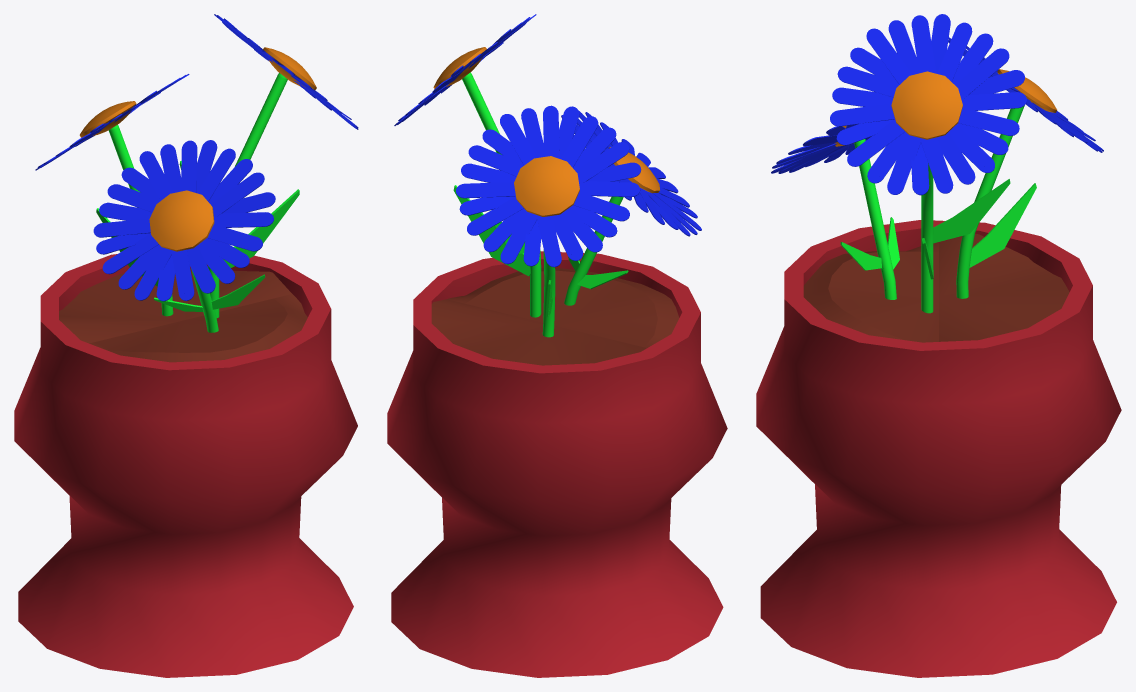
Rendered from jumper_flowerpot01.FBX.
3 views of the same model, side by side, from view 1: azimuth 30°, elevation 25°; view 2: azimuth 150°, elevation 25°; view 3: azimuth 270°, elevation 25° (orthographic). The views are drawn at different scales.
Parts seen in each view (by area): view 1: Tube001, Cone001, OilTank006, OilTank001, OilTank004, OilTank003, Box065, Box063, Box053, Box055, Box057, Box067 (+16 smaller); view 2: Tube001, Cone001, OilTank004, OilTank001, OilTank007, Box042, Box040, Box032, Box034, Box030, Box038, OilTank005 (+17 smaller); view 3: Tube001, Cone001, OilTank003, OilTank007, OilTank005, OilTank001, Box079, Box073, Box019, Box007, Box009, Box017 (+22 smaller).
Part boxes in pixels (left/top/right/bottom): Tube001: left=14, top=254, right=357, bottom=677; Cone001: left=59, top=271, right=307, bottom=362; OilTank006: left=149, top=190, right=214, bottom=251; OilTank001: left=208, top=73, right=287, bottom=317; OilTank004: left=79, top=101, right=136, bottom=137; OilTank003: left=263, top=47, right=316, bottom=89; Box065: left=210, top=175, right=259, bottom=218; Box063: left=212, top=212, right=265, bottom=227; Box053: left=135, top=246, right=173, bottom=294; Box055: left=107, top=233, right=158, bottom=271; Box057: left=102, top=218, right=150, bottom=237; Box067: left=197, top=153, right=233, bottom=201; Tube001: left=387, top=251, right=727, bottom=677; Cone001: left=431, top=267, right=679, bottom=365; OilTank004: left=514, top=156, right=579, bottom=216; OilTank001: left=462, top=72, right=541, bottom=317; OilTank007: left=564, top=196, right=623, bottom=305; Box042: left=575, top=144, right=624, bottom=185; Box040: left=578, top=181, right=631, bottom=196; Box032: left=471, top=196, right=523, bottom=233; Box034: left=464, top=182, right=515, bottom=198; Box030: left=501, top=210, right=536, bottom=258; Box038: left=501, top=118, right=537, bottom=165; OilTank005: left=542, top=250, right=555, bottom=337; Tube001: left=756, top=220, right=1121, bottom=677; Cone001: left=803, top=233, right=1069, bottom=342; OilTank003: left=891, top=71, right=962, bottom=139; OilTank007: left=854, top=139, right=896, bottom=299; OilTank005: left=956, top=105, right=1024, bottom=298; OilTank001: left=921, top=163, right=933, bottom=313; Box079: left=986, top=183, right=1036, bottom=248; Box073: left=952, top=179, right=1010, bottom=233; Box019: left=955, top=51, right=1005, bottom=99; Box007: left=888, top=133, right=921, bottom=188; Box009: left=851, top=119, right=904, bottom=164; Box017: left=961, top=92, right=1017, bottom=111.
Bounding box in the file's own units: 38.89 × 70.69 × 38.31.
